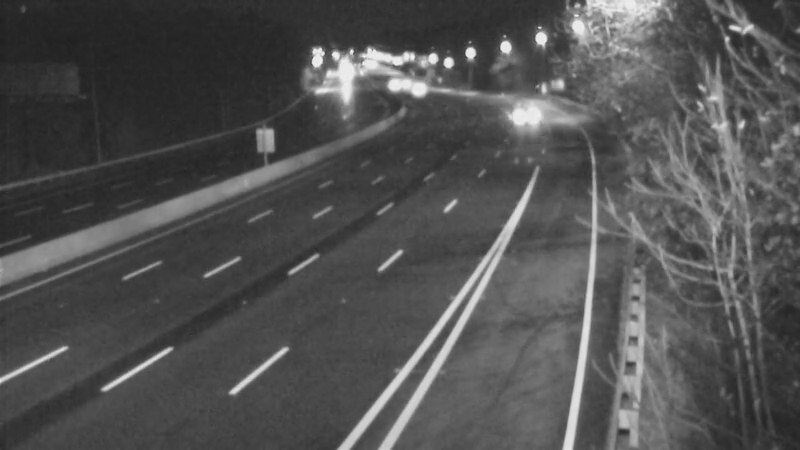vehicle: (368, 61, 418, 111), (392, 66, 442, 116), (501, 90, 551, 140)
